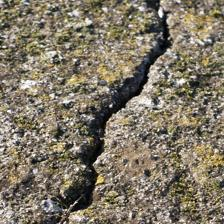Crack: (32, 1, 149, 208)
